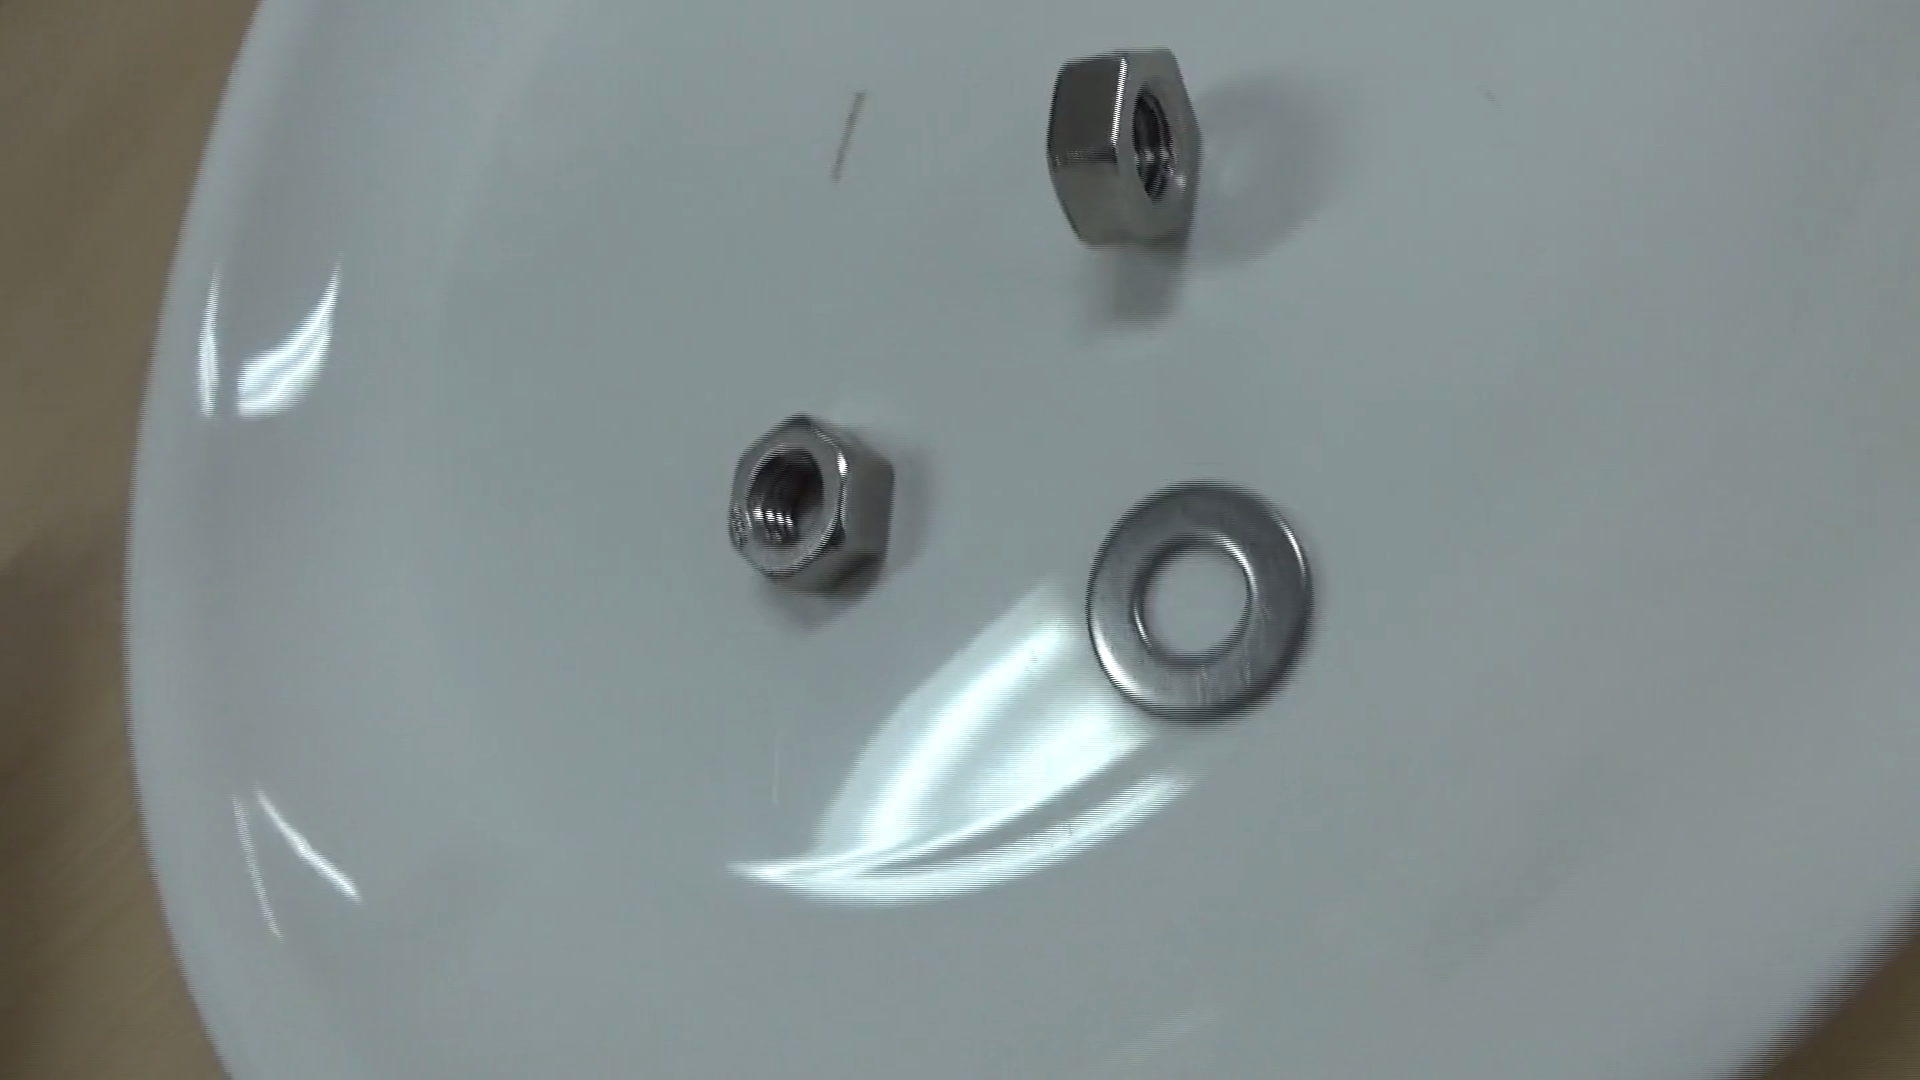nut: (1018, 28, 1245, 268), (707, 392, 916, 621)
washer: (1062, 458, 1331, 738)
